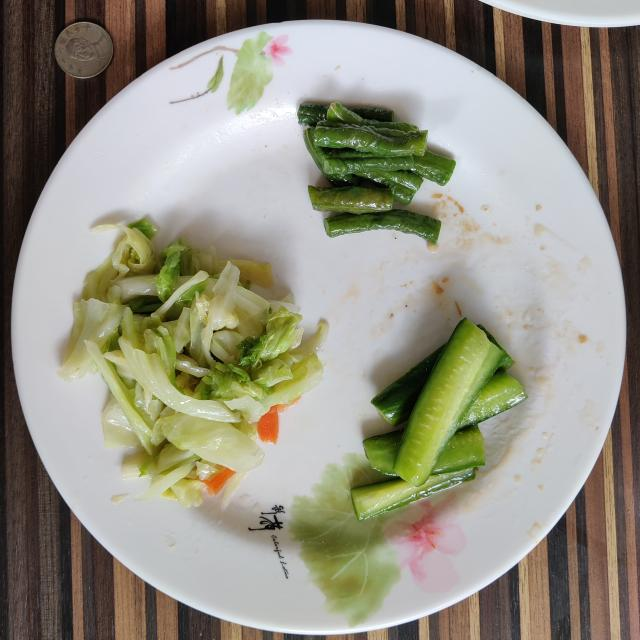cabbage: (59, 219, 329, 508)
coin: (55, 21, 112, 79)
cucumber: (351, 319, 528, 520)
